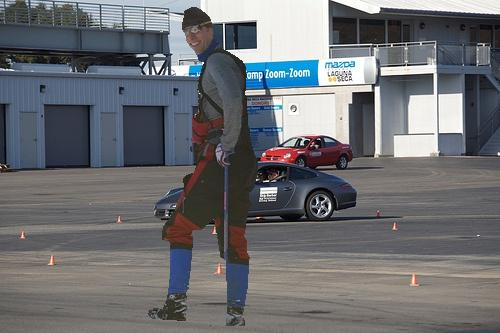tampered: (149, 8, 258, 326)
